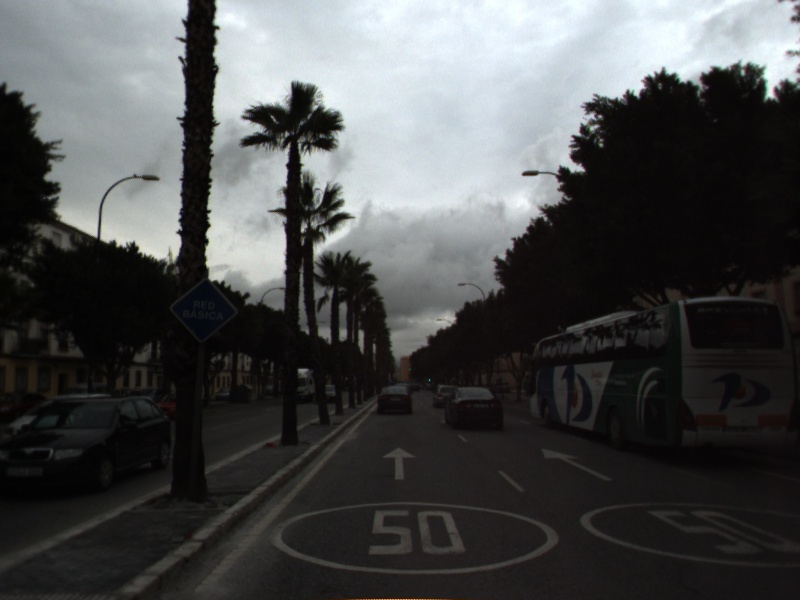STRAIGHT: (539, 446, 616, 483), (381, 445, 418, 482)
